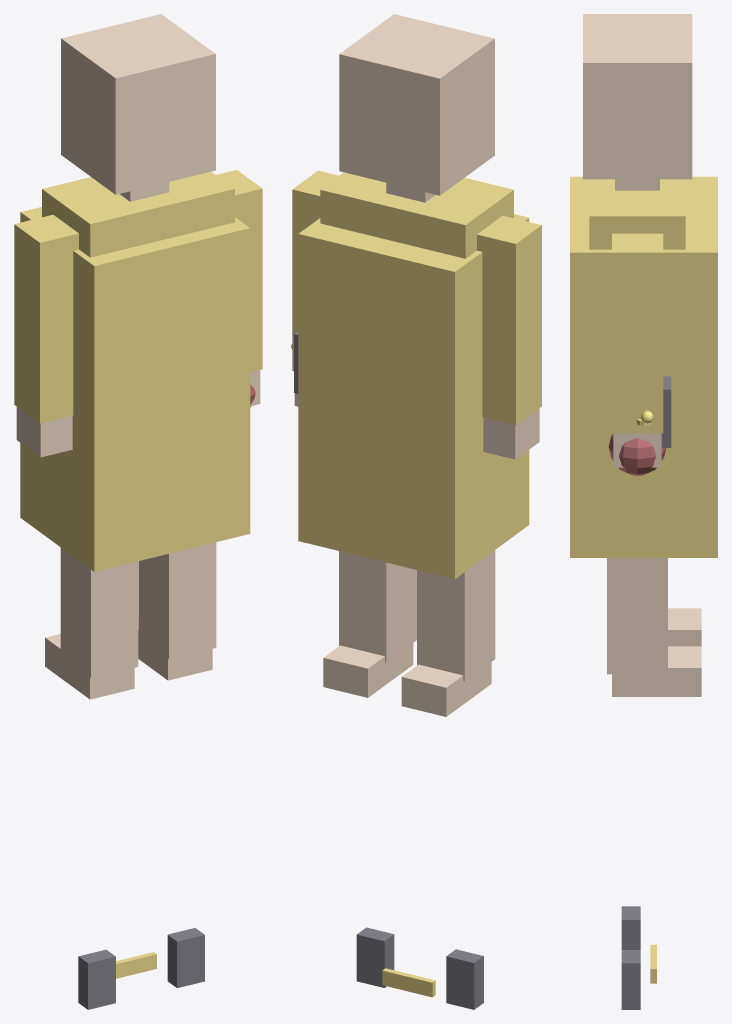
The model's file is midas.glb.
The picture shows the model from 3 angles, left to right: view 1: azimuth 30°, elevation 25°; view 2: azimuth 150°, elevation 25°; view 3: azimuth 270°, elevation 25°; orthographic projection.
Visible parts, largest first — view 1: outfit_tunic_0, head, arm_L_upper, torso, leg_L_shin, leg_R_shin, arm_R_upper, leg_L_foot, outfit_sandals_0, outfit_sandals_1, arm_L_hand, leg_R_foot (+1 smaller); view 2: outfit_tunic_0, head, arm_L_upper, torso, leg_L_shin, leg_R_shin, leg_L_foot, leg_R_foot, arm_R_upper, outfit_sandals_0, arm_L_hand, outfit_sandals_1 (+1 smaller); view 3: outfit_tunic_0, head, arm_R_upper, leg_R_shin, torso, leg_R_foot, prop, leg_L_foot, outfit_sandals_1, outfit_sandals_0, arm_R_hand, outfit_bag_0 (+1 smaller).
Boxes of the visible parts, bbox=[...] form: outfit_tunic_0: bbox=[20, 207, 250, 571]; head: bbox=[61, 14, 215, 194]; arm_L_upper: bbox=[14, 214, 78, 423]; torso: bbox=[42, 171, 234, 257]; leg_L_shin: bbox=[60, 547, 138, 678]; leg_R_shin: bbox=[138, 542, 216, 659]; arm_R_upper: bbox=[216, 170, 262, 371]; leg_L_foot: bbox=[45, 634, 134, 699]; outfit_sandals_0: bbox=[78, 949, 115, 1009]; outfit_sandals_1: bbox=[167, 928, 204, 988]; arm_L_hand: bbox=[16, 407, 72, 457]; leg_R_foot: bbox=[138, 615, 212, 680]; outfit_tunic_0: bbox=[298, 214, 529, 579]; head: bbox=[339, 14, 494, 195]; arm_L_upper: bbox=[477, 215, 541, 425]; torso: bbox=[320, 172, 513, 258]; leg_L_shin: bbox=[417, 550, 495, 681]; leg_R_shin: bbox=[339, 551, 416, 662]; leg_L_foot: bbox=[401, 662, 491, 716]; leg_R_foot: bbox=[323, 643, 413, 697]; arm_R_upper: bbox=[292, 170, 338, 371]; outfit_sandals_0: bbox=[446, 949, 483, 1009]; arm_L_hand: bbox=[483, 408, 539, 459]; outfit_sandals_1: bbox=[356, 927, 394, 987]; outfit_tunic_0: bbox=[570, 176, 717, 557]; head: bbox=[583, 14, 692, 179]; arm_R_upper: bbox=[612, 233, 663, 433]; leg_R_shin: bbox=[607, 558, 667, 674]; torso: bbox=[589, 179, 685, 249]; leg_R_foot: bbox=[612, 646, 701, 696]; prop: bbox=[608, 410, 665, 475]; leg_L_foot: bbox=[668, 608, 701, 646]; outfit_sandals_1: bbox=[621, 950, 640, 1009]; outfit_sandals_0: bbox=[621, 906, 640, 949]; arm_R_hand: bbox=[613, 433, 661, 467]; outfit_bag_0: bbox=[661, 376, 671, 447].
Bounding box in the file's own units: 0.83 × 3.24 × 0.46.
